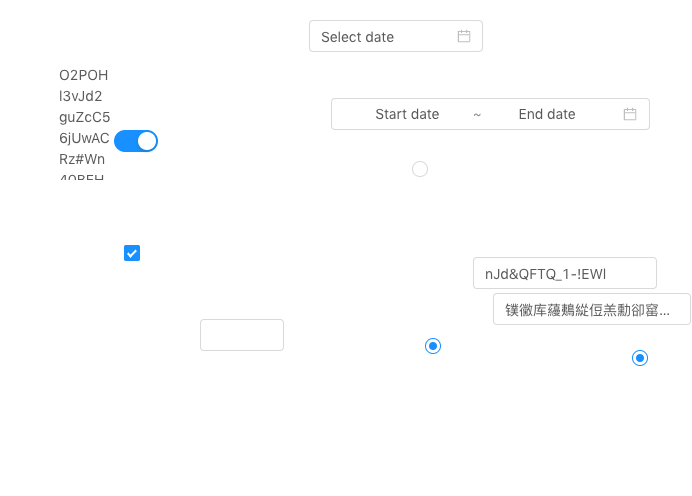Checkbox: (124, 242, 140, 263)
DatePicker: (309, 20, 483, 52)
Input: (493, 293, 691, 325), (473, 257, 657, 289), (200, 319, 284, 351)
Radio: (412, 158, 428, 178), (632, 347, 648, 367), (425, 335, 441, 355)
RangePicker: (331, 98, 650, 130)
Switch: (114, 129, 158, 153)
Text: (59, 64, 111, 180)
